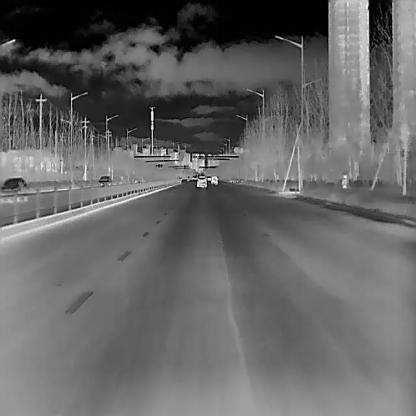car: (0, 177, 28, 203), (97, 175, 112, 186), (196, 174, 206, 187), (210, 175, 218, 184)
